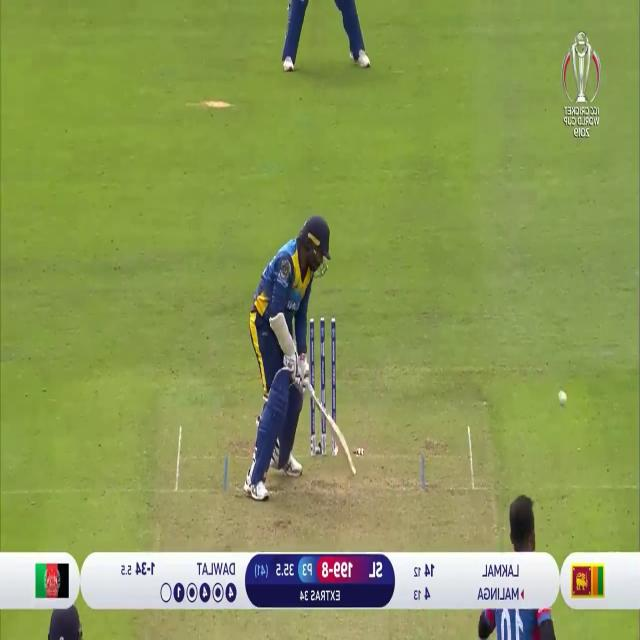ball: (556, 387, 568, 405)
